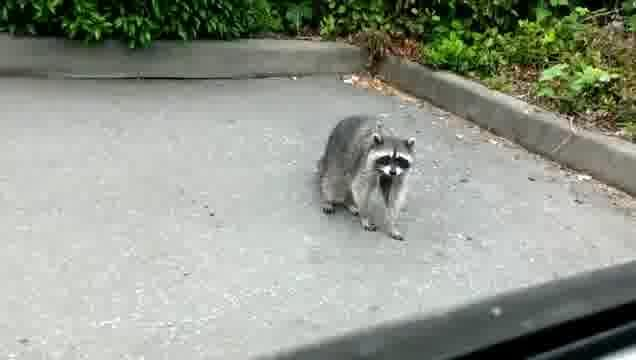raccoon: (312, 111, 420, 243)
